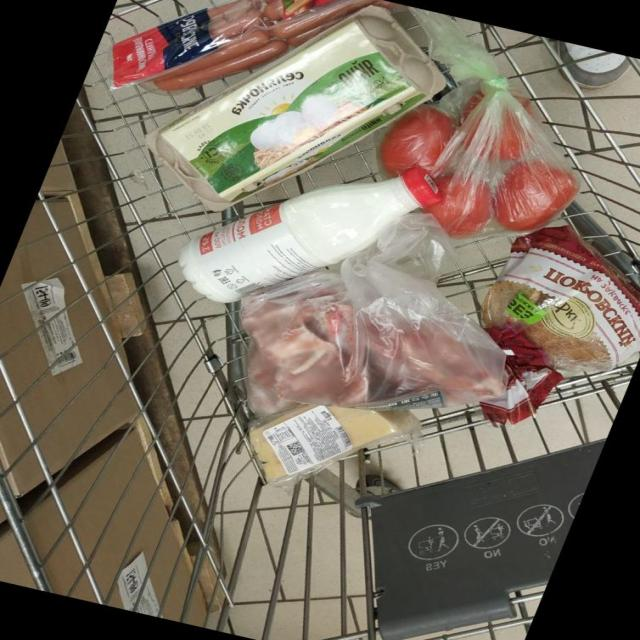cheese: (203, 205, 524, 610)
egg: (140, 27, 418, 87)
milk: (204, 90, 552, 273)
tomato: (214, 87, 640, 281), (253, 78, 640, 286), (253, 57, 640, 205), (204, 52, 586, 188)
